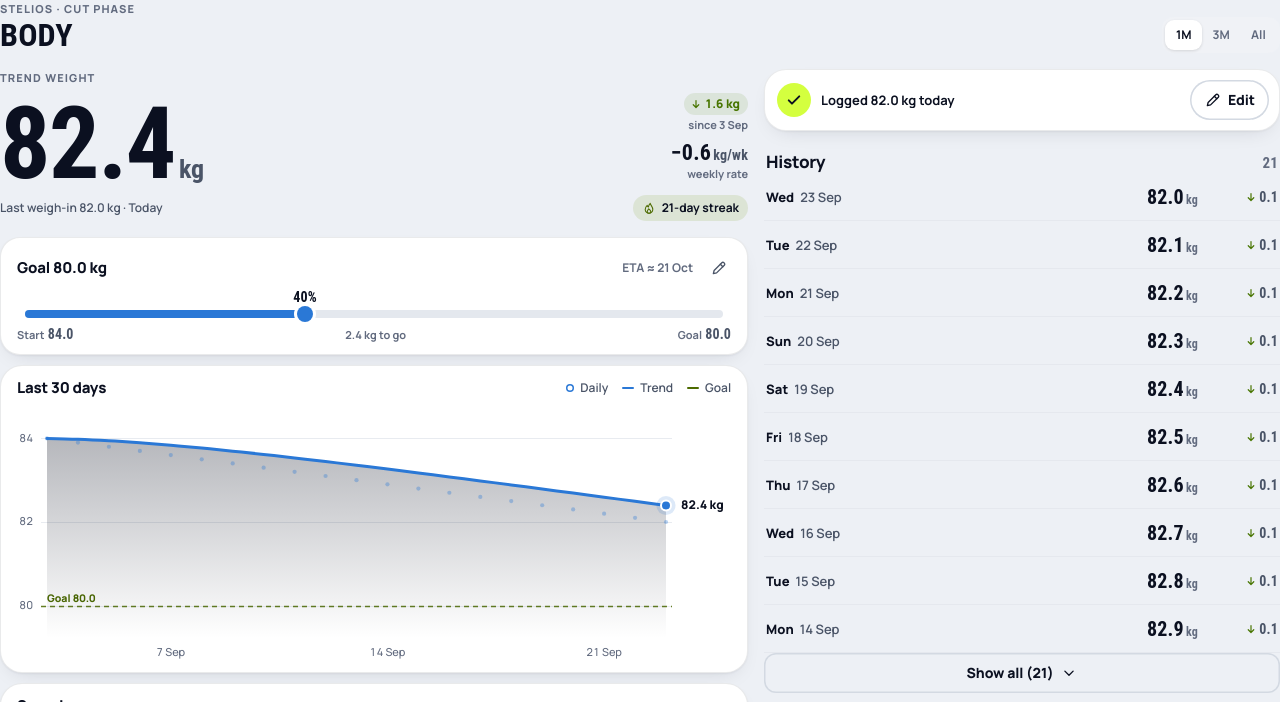
Test: BodyPage › shows the trend hero, goal progress and a history that opens the edit sheet
Expected: the text "Stelios · Cut phase" is shown, [0,1,135,16]
Expected: the progress indicator named "Progress to goal" is shown, [25,310,723,318]
What coordinates should you click on to do the following:
click the button "Show all (21)"
I would click on:
 (1022, 673)
Its box is [764,653,1279,693].
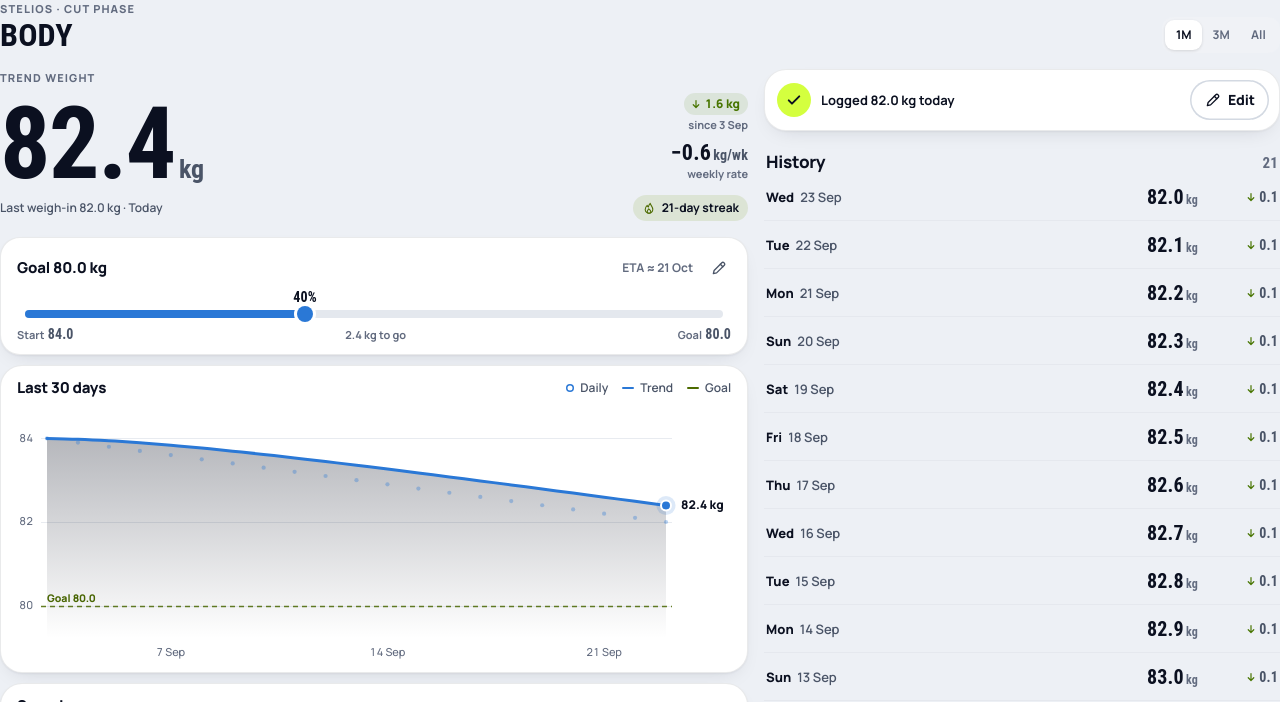
What coordinates should you click on to do the following:
click the button "Tue 22 Sep 82.1kg 0.1"
I would click on:
 (816, 245)
Its box is [764,221,1279,269].
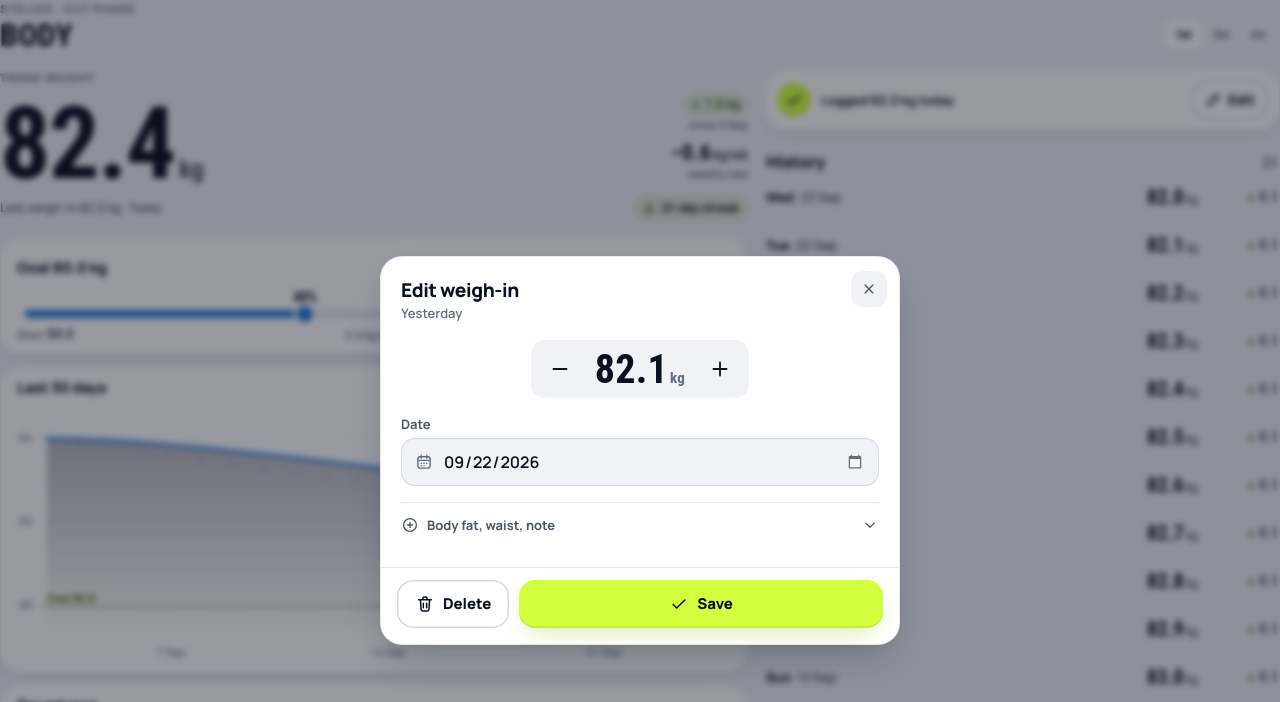
Now the text "Yesterday" is shown, box [401,304,462,322]
